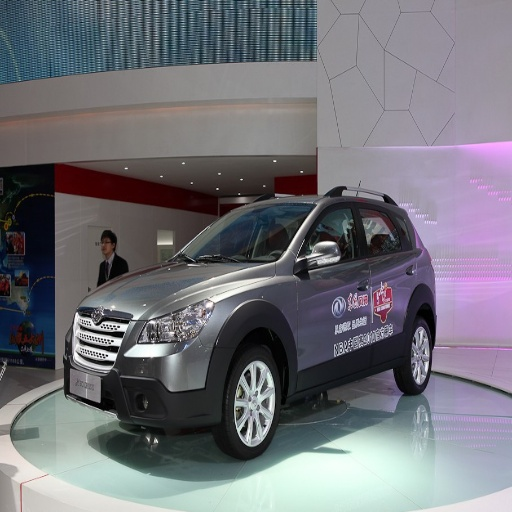front_bumper: (65, 308, 229, 430)
front_glass: (176, 205, 311, 261)
front_left_door: (298, 200, 370, 375)
